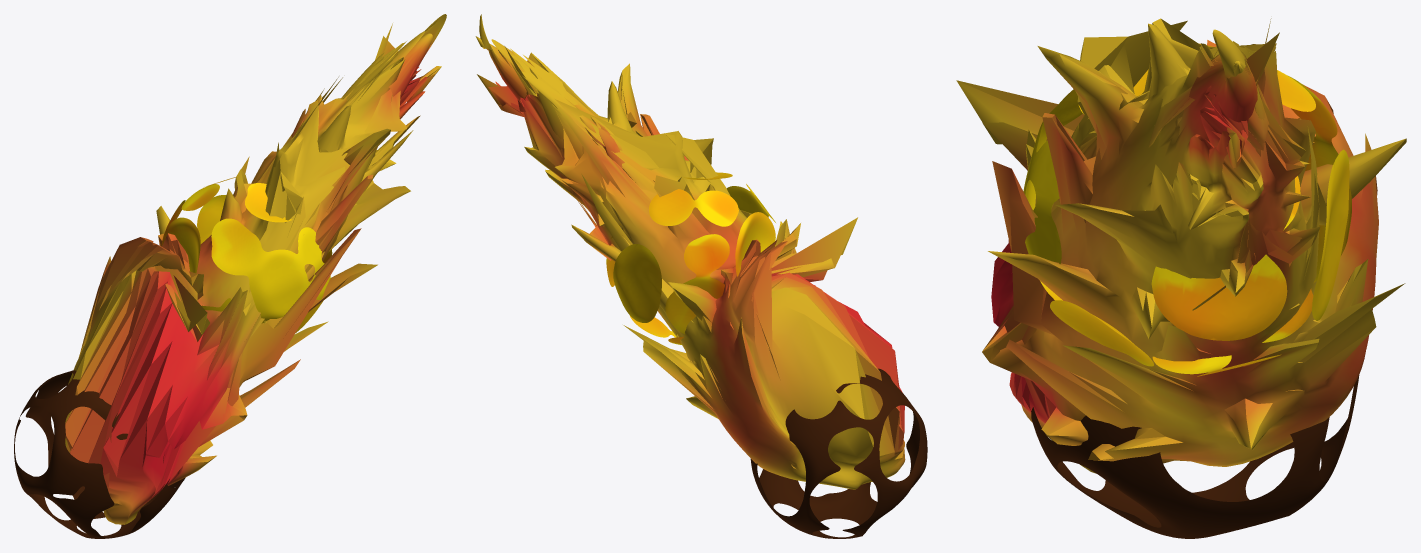
File: asteroid.glb
3 renders of one model, left to right at view 1: azimuth 30°, elevation 25°; view 2: azimuth 150°, elevation 25°; view 3: azimuth 270°, elevation 25°, orthographic. The views are drawn at different scales.
Parts seen in each view (by area): view 1: Object_4, Object_8; view 2: Object_4, Object_8; view 3: Object_4, Object_8.
Boxes of the visible parts, x1,y1,x2,y2 form: Object_4: (14, 14, 446, 538); Object_8: (161, 177, 332, 333); Object_4: (475, 14, 927, 538); Object_8: (606, 172, 778, 344); Object_4: (956, 18, 1406, 538); Object_8: (1023, 43, 1351, 376).
Bounding box in the file's own units: 113754 × 109145 × 54550.
